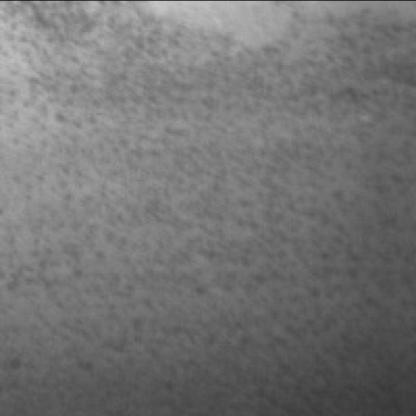pitted_surface: (2, 6, 406, 398)
